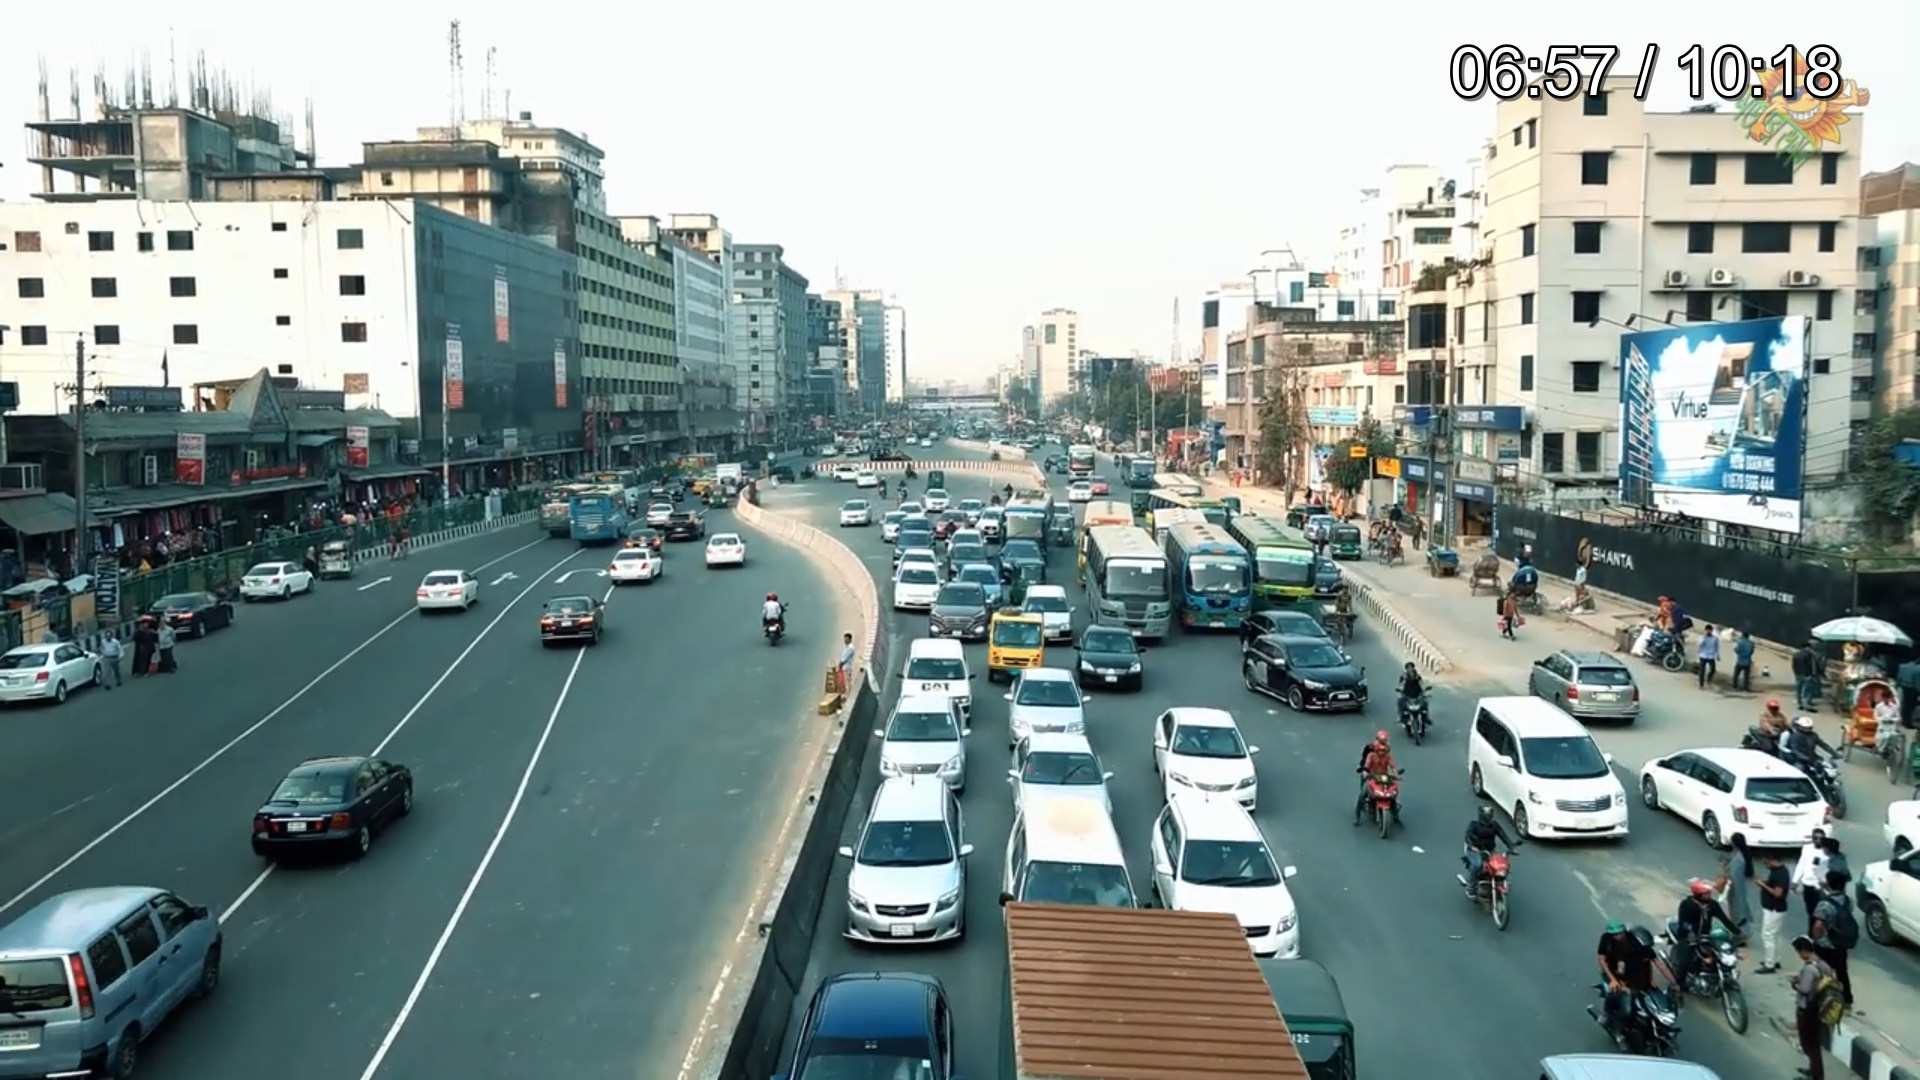MotorCycle: (1668, 878, 1760, 1036), (1586, 913, 1687, 1050), (1460, 803, 1527, 949), (1352, 729, 1408, 840), (1394, 659, 1437, 749)
